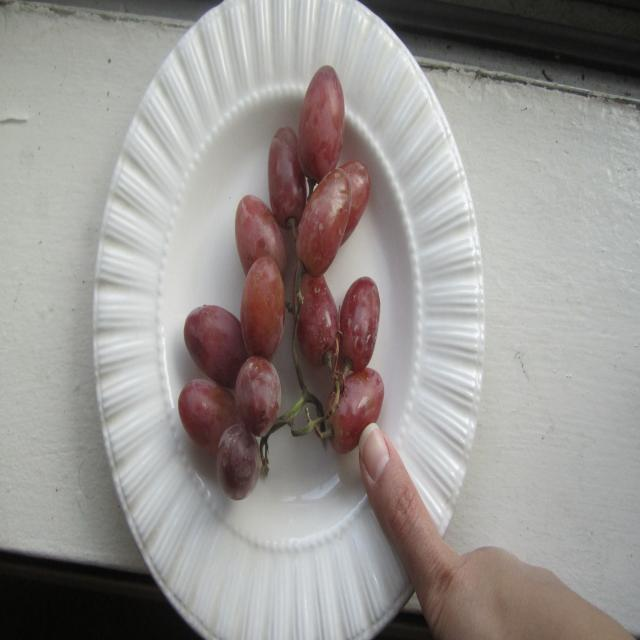grape: (165, 64, 388, 529)
